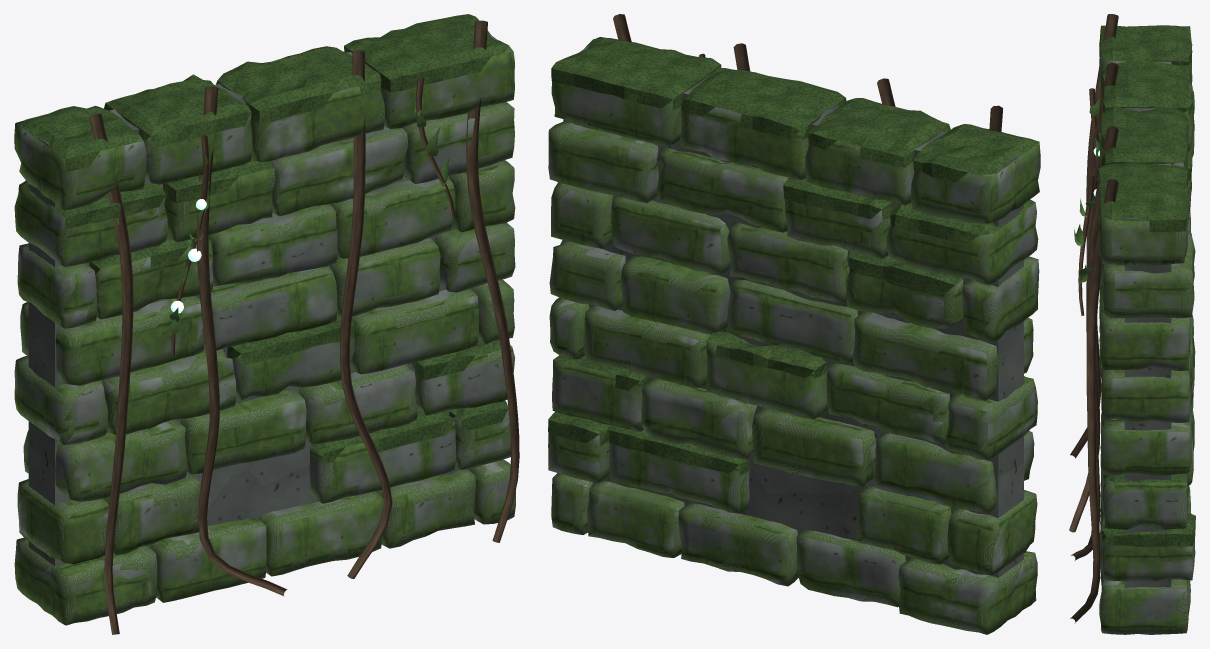
The model's file is mod_wall_mossy_roots_4m.glb.
The picture shows the model from 3 angles, left to right: view 1: azimuth 30°, elevation 25°; view 2: azimuth 150°, elevation 25°; view 3: azimuth 270°, elevation 25°; orthographic projection. The views are drawn at different scales.
Parts seen in each view (by area): view 1: mod_wall_mossy_roots_4m__stone_wall_mossy, mod_wall_mossy_roots_4m__moss, mod_wall_mossy_roots_4m__root, mod_wall_mossy_roots_4m__stone_dark, mod_wall_mossy_roots_4m__leaf; view 2: mod_wall_mossy_roots_4m__stone_wall_mossy, mod_wall_mossy_roots_4m__moss, mod_wall_mossy_roots_4m__stone_dark, mod_wall_mossy_roots_4m__root; view 3: mod_wall_mossy_roots_4m__stone_wall_mossy, mod_wall_mossy_roots_4m__moss, mod_wall_mossy_roots_4m__root, mod_wall_mossy_roots_4m__stone_dark, mod_wall_mossy_roots_4m__leaf.
Part boxes in pixels (x1,y1,x2,y2): mod_wall_mossy_roots_4m__stone_wall_mossy: [14, 46, 515, 625]; mod_wall_mossy_roots_4m__moss: [21, 14, 509, 463]; mod_wall_mossy_roots_4m__root: [89, 20, 519, 634]; mod_wall_mossy_roots_4m__stone_dark: [28, 33, 498, 585]; mod_wall_mossy_roots_4m__leaf: [169, 98, 449, 334]; mod_wall_mossy_roots_4m__stone_wall_mossy: [548, 37, 1040, 634]; mod_wall_mossy_roots_4m__moss: [548, 38, 1039, 475]; mod_wall_mossy_roots_4m__stone_dark: [563, 45, 1023, 591]; mod_wall_mossy_roots_4m__root: [613, 14, 1003, 132]; mod_wall_mossy_roots_4m__stone_wall_mossy: [1098, 26, 1195, 634]; mod_wall_mossy_roots_4m__moss: [1098, 25, 1195, 546]; mod_wall_mossy_roots_4m__root: [1069, 14, 1118, 623]; mod_wall_mossy_roots_4m__stone_dark: [1124, 61, 1171, 587]; mod_wall_mossy_roots_4m__leaf: [1074, 99, 1100, 283].
Bounding box in the file's own units: 4 × 4.23 × 1.09.
6 materials, 5 textured.
